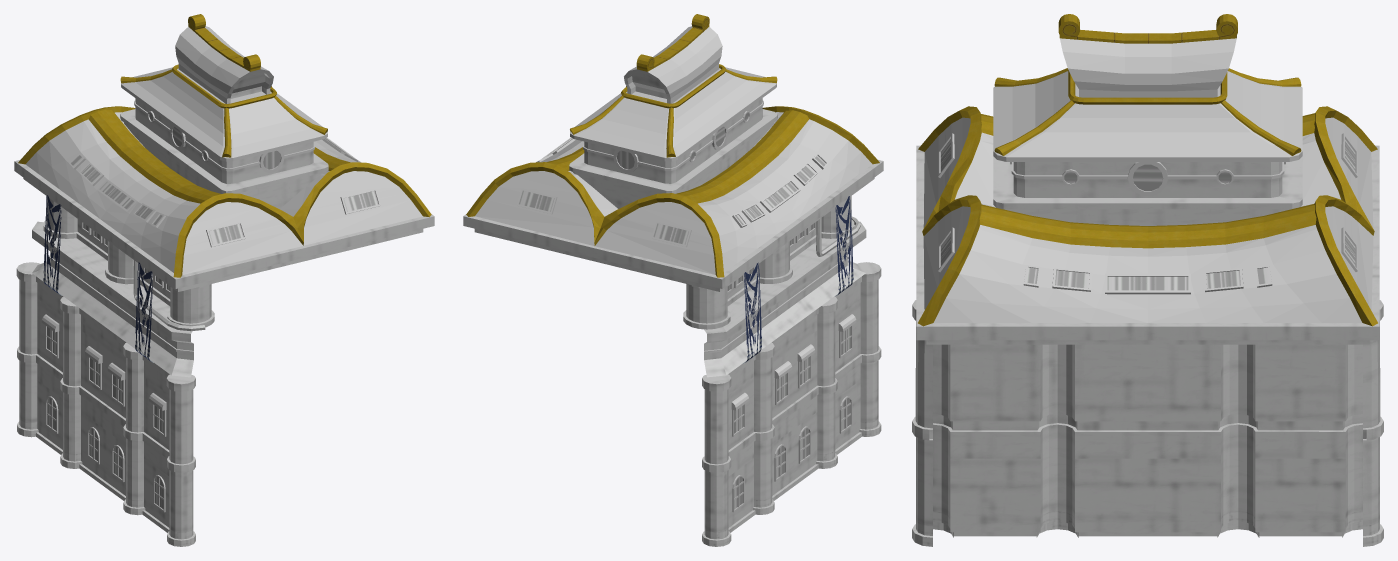
Rendered from REDUCTION_SM_ENV_KNVLLG_CommonBuilding_I_1.mo.fbx.
The picture shows the model from 3 angles, left to right: view 1: azimuth 30°, elevation 25°; view 2: azimuth 150°, elevation 25°; view 3: azimuth 270°, elevation 25°; orthographic projection. The views are drawn at different scales.
Parts seen in each view (by area): view 1: REDUCTION_SM_ENV_KNVLLG_CommonBuilding_I_1.mo; view 2: REDUCTION_SM_ENV_KNVLLG_CommonBuilding_I_1.mo; view 3: REDUCTION_SM_ENV_KNVLLG_CommonBuilding_I_1.mo.
Part boxes in pixels (x1,y1,x2,y2): REDUCTION_SM_ENV_KNVLLG_CommonBuilding_I_1.mo: [14, 14, 434, 546]; REDUCTION_SM_ENV_KNVLLG_CommonBuilding_I_1.mo: [463, 14, 883, 546]; REDUCTION_SM_ENV_KNVLLG_CommonBuilding_I_1.mo: [912, 14, 1383, 546].
Size of the model in its own units: 20.03 by 30.96 by 21.95.
